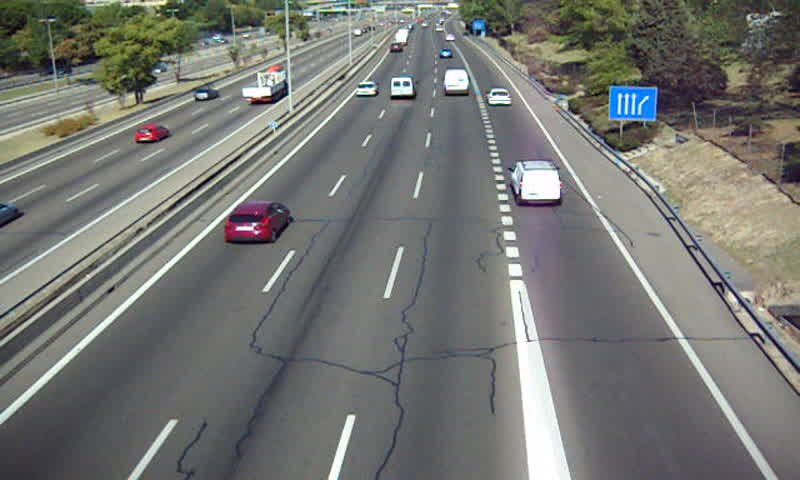car: (225, 200, 292, 241), (485, 87, 512, 106), (355, 81, 378, 96)
van: (513, 161, 561, 207), (443, 68, 470, 95), (391, 77, 414, 99)
